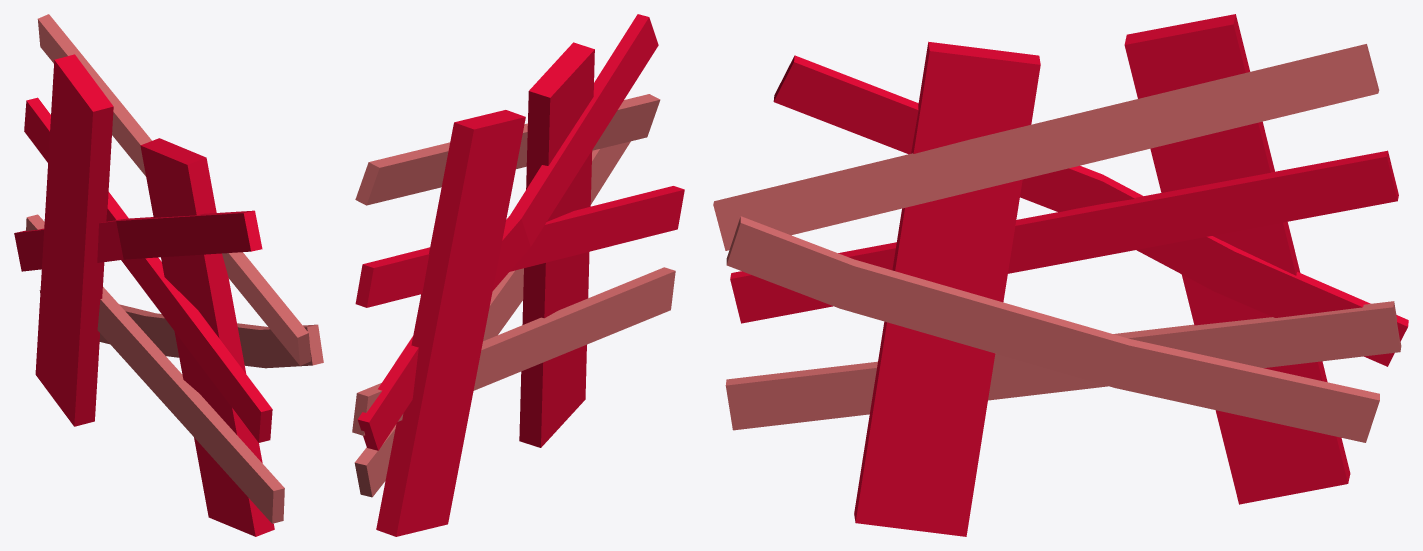
The model's file is c_nailed.glb.
3 renders of one model, left to right at view 1: azimuth 30°, elevation 25°; view 2: azimuth 150°, elevation 25°; view 3: azimuth 270°, elevation 25°, orthographic. The views are drawn at different scales.
Visible parts, largest first — view 1: C_Nailed, C_Nailed.007, C_Nailed.006, C_Nailed.002, C_Nailed.004, C_Nailed.005, C_Nailed.001; view 2: C_Nailed, C_Nailed.007, C_Nailed.004, C_Nailed.002, C_Nailed.006, C_Nailed.005, C_Nailed.001; view 3: C_Nailed.007, C_Nailed.001, C_Nailed.005, C_Nailed, C_Nailed.002, C_Nailed.006, C_Nailed.004.
Boxes of the visible parts, <box> form: C_Nailed: <box>35,54,113,426</box>; C_Nailed.007: <box>140,138,274,536</box>; C_Nailed.006: <box>26,214,284,523</box>; C_Nailed.002: <box>24,97,272,442</box>; C_Nailed.004: <box>14,210,262,271</box>; C_Nailed.005: <box>37,14,311,365</box>; C_Nailed.001: <box>39,290,323,368</box>; C_Nailed: <box>376,110,525,536</box>; C_Nailed.007: <box>519,42,594,447</box>; C_Nailed.004: <box>357,14,658,450</box>; C_Nailed.002: <box>355,186,684,307</box>; C_Nailed.006: <box>352,267,675,435</box>; C_Nailed.005: <box>355,94,660,205</box>; C_Nailed.001: <box>354,141,630,497</box>; C_Nailed.007: <box>854,41,1040,536</box>; C_Nailed.001: <box>726,216,1379,442</box>; C_Nailed.005: <box>713,44,1379,250</box>; C_Nailed: <box>1124,14,1350,504</box>; C_Nailed.002: <box>730,150,1398,323</box>; C_Nailed.006: <box>725,301,1401,430</box>; C_Nailed.004: <box>773,55,1408,366</box>.
Size of the model in its own units: 0.3344 by 1.71 by 2.21.
1 material, 1 textured.
